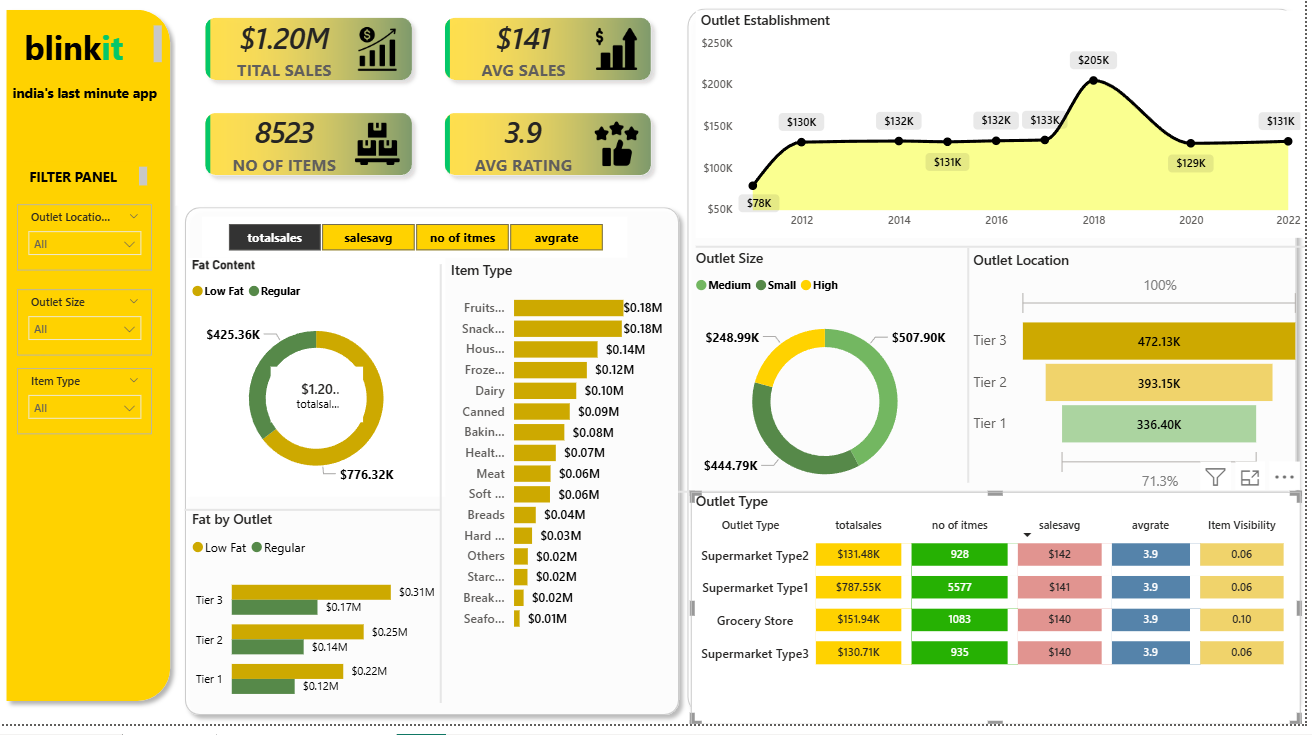

Layout of this report page (visuals, bound fields, positions):
{"tool":"powerbi","page":{"name":"Page 1","canvas":[1280,720],"ordinal":0},"visuals":[{"type":"shape","box":[0,12.3,178.4,694.3],"z":0},{"type":"textbox","box":[238.8,537.9,178.4,167.4],"z":1000},{"type":"textbox","box":[238.8,12.3,178.4,56.3],"z":2000},{"type":"textbox","box":[22,31.6,144.1,56.3],"z":3000},{"type":"textbox","box":[0,87.8,171.5,37],"z":4000},{"type":"cardVisual","fields":{"Data":["BlinkIT Grocery Data.totalsales","BlinkIT Grocery Data.salesavg","BlinkIT Grocery Data.no of itmes","BlinkIT Grocery Data.avgrate"]},"box":[174.9,0,494,212.8],"z":5000},{"type":"shape","box":[174.9,205.4,501.4,514.8],"z":6000},{"type":"donutChart","title":" Fat Content","fields":{"Y":["BlinkIT Grocery Data.totalsales"],"Category":["BlinkIT Grocery Data.Item Fat Content"]},"box":[185.9,264.1,253.1,233.6],"z":7000},{"type":"slicer","fields":{"Values":["matric.matric"]},"box":[200.3,223.7,415.8,39.8],"z":8000},{"type":"cardVisual","fields":{"Data":["BlinkIT Grocery Data.totalsales"]},"box":[262.9,365.6,100.3,64.8],"z":9000},{"type":"clusteredBarChart","title":"Fat by Outlet ","fields":{"Y":["BlinkIT Grocery Data.totalsales"],"Category":["BlinkIT Grocery Data.Outlet Location Type"],"Series":["BlinkIT Grocery Data.Item Fat Content"]},"box":[185.9,509.9,248.2,203],"z":10000},{"type":"shape","box":[407.2,270.2,53.8,429.2],"z":11000},{"type":"shape","box":[183.4,497.7,250.7,25.7],"z":12000},{"type":"barChart","title":"ITEM TYPE","fields":{"Y":["BlinkIT Grocery Data.totalsales"],"Category":["BlinkIT Grocery Data.Item Type"]},"box":[439,266.6,217.7,371.7],"z":13000},{"type":"shape","box":[666.4,11,613.9,709.2],"z":14000},{"type":"lineChart","title":" Outlet Establishment","fields":{"Category":["BlinkIT Grocery Data.Outlet Establishment Year"],"Y":["BlinkIT Grocery Data.totalsales"]},"box":[683.6,22,596.7,222.6],"z":15000},{"type":"shape","box":[683.6,243.3,596.7,19.6],"z":16000},{"type":"donutChart","title":"Outlet Size","fields":{"Y":["BlinkIT Grocery Data.totalsales"],"Category":["BlinkIT Grocery Data.Outlet Size"]},"box":[678.7,254.3,262.9,255.6],"z":17000},{"type":"shape","box":[923.2,254.3,53.8,229.9],"z":18000},{"type":"funnel","title":"Outlet Location ","fields":{"Category":["BlinkIT Grocery Data.Outlet Location Type"],"Y":["Sum(BlinkIT Grocery Data.Sales)"]},"box":[950.1,256.8,330.2,240.9],"z":19000},{"type":"shape","box":[666.4,421.9,596.7,141.8],"z":20000},{"type":"pivotTable","title":"Outlet Type","fields":{"Rows":["BlinkIT Grocery Data.Outlet Type"],"Values":["BlinkIT Grocery Data.totalsales","BlinkIT Grocery Data.no of itmes","BlinkIT Grocery Data.salesavg","BlinkIT Grocery Data.avgrate","Avg(BlinkIT Grocery Data.Item Visibility)"]},"box":[678.7,492.8,596.7,227.4],"z":21000},{"type":"slicer","fields":{"Values":["BlinkIT Grocery Data.Outlet Location Type"]},"box":[19.6,211.6,132.1,64.8],"z":22000},{"type":"slicer","fields":{"Values":["BlinkIT Grocery Data.Outlet Size"]},"box":[19.6,294.7,132.1,64.8],"z":23000},{"type":"slicer","fields":{"Values":["BlinkIT Grocery Data.Item Type"]},"box":[19.6,371.7,132.1,64.8],"z":24000},{"type":"textbox","box":[26.9,170,124.7,35.5],"z":25000}]}

Visuals, with their boxes in screenshot pixels (x1, y1, x2, y2), scaled from the page's 1280x720 canvas onto the 1312x735 screenshot:
shape: <bbox>0, 13, 183, 721</bbox>
textbox: <bbox>245, 549, 428, 720</bbox>
textbox: <bbox>245, 13, 428, 70</bbox>
textbox: <bbox>23, 32, 170, 90</bbox>
textbox: <bbox>0, 90, 176, 127</bbox>
cardVisual - BlinkIT Grocery Data.totalsales x BlinkIT Grocery Data.salesavg: <bbox>179, 0, 686, 217</bbox>
shape: <bbox>179, 210, 693, 734</bbox>
" Fat Content" donutChart: <bbox>191, 270, 450, 508</bbox>
slicer - matric.matric: <bbox>205, 228, 632, 269</bbox>
cardVisual - BlinkIT Grocery Data.totalsales: <bbox>269, 373, 372, 439</bbox>
"Fat by Outlet " clusteredBarChart: <bbox>191, 521, 445, 728</bbox>
shape: <bbox>417, 276, 473, 714</bbox>
shape: <bbox>188, 508, 445, 534</bbox>
"ITEM TYPE" barChart: <bbox>450, 272, 673, 652</bbox>
shape: <bbox>683, 11, 1311, 734</bbox>
" Outlet Establishment" lineChart: <bbox>701, 22, 1311, 250</bbox>
shape: <bbox>701, 248, 1311, 268</bbox>
"Outlet Size" donutChart: <bbox>696, 260, 965, 521</bbox>
shape: <bbox>946, 260, 1001, 494</bbox>
"Outlet Location " funnel: <bbox>974, 262, 1311, 508</bbox>
shape: <bbox>683, 431, 1295, 575</bbox>
"Outlet Type" pivotTable: <bbox>696, 503, 1307, 734</bbox>
slicer - BlinkIT Grocery Data.Outlet Location Type: <bbox>20, 216, 155, 282</bbox>
slicer - BlinkIT Grocery Data.Outlet Size: <bbox>20, 301, 155, 367</bbox>
slicer - BlinkIT Grocery Data.Item Type: <bbox>20, 379, 155, 446</bbox>
textbox: <bbox>28, 174, 155, 210</bbox>
